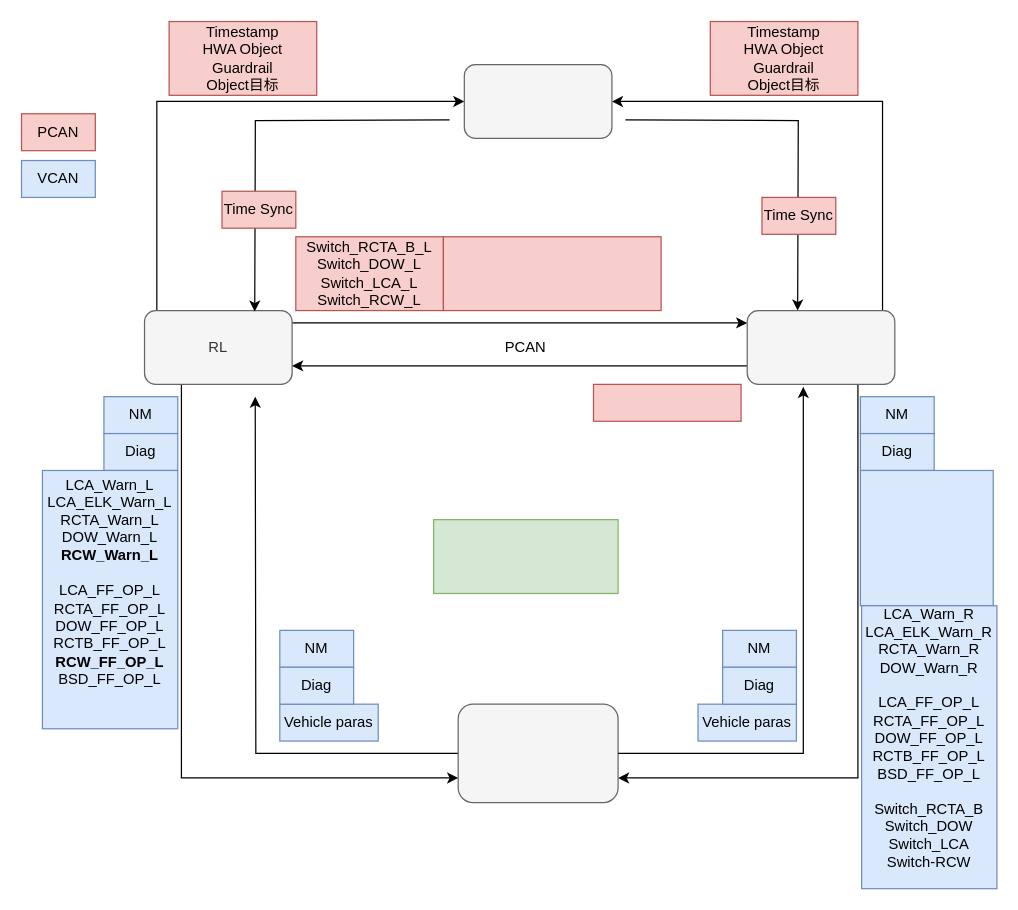
The diagram is 1018 pixels wide and 910 high, and some of its shapes have lost their labels. The box of each missing label's shape, as (x1, y1, x2, y2) in pixels:
GW: (457, 703, 618, 803)
MPC: (463, 63, 612, 138)
RCTB_Decel减速度_L RCTB_DecelVld减速度有效位_L RCTB_Req_L RCTB_FF_OP_L: (442, 236, 661, 311)
RCTB_Deecl减速度_R RCTB_DecelVld减速度有效位_R RCTB_Req_R: (859, 469, 993, 606)
RCW_FF_OP RCW_Trigger: (592, 383, 741, 421)
RCW左雷达仲裁 RCTB右雷达仲裁: (432, 518, 618, 593)
RR: (746, 309, 895, 384)
